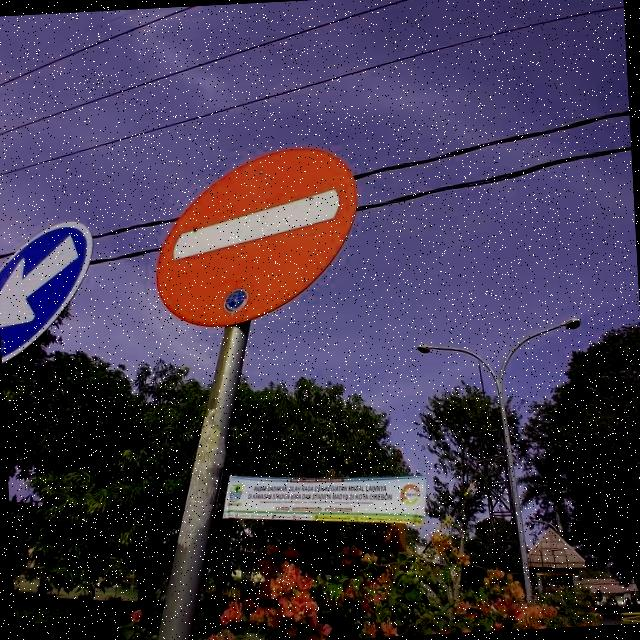Zakaz wjazdu: (149, 148, 364, 328)
